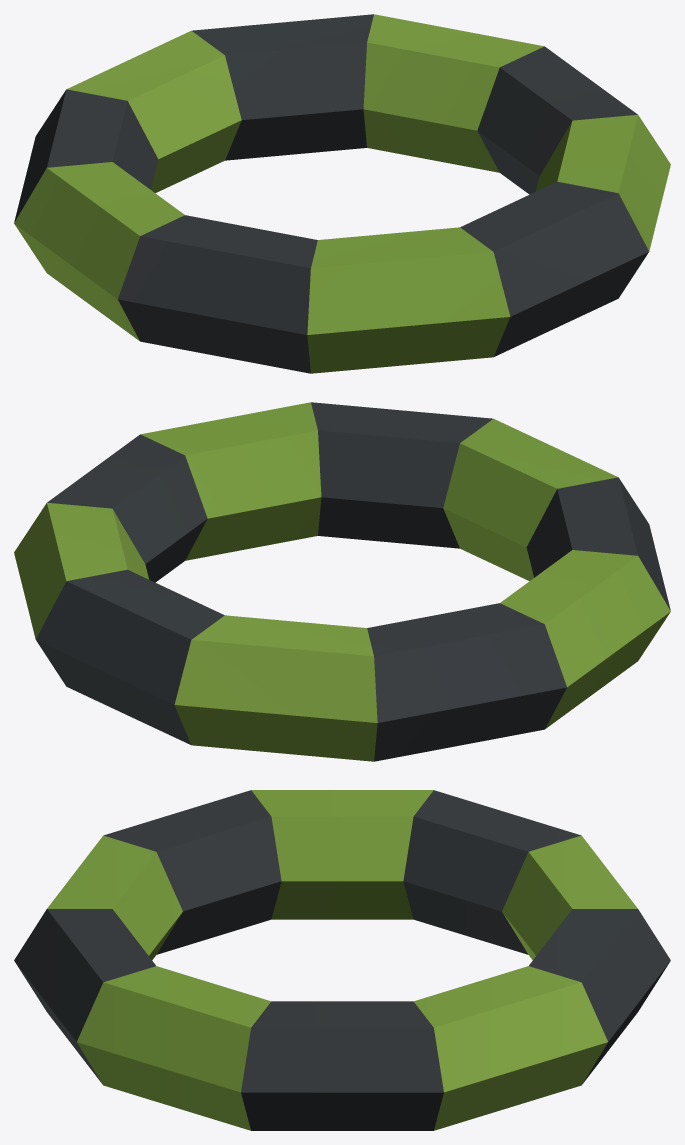
3 renders of one model, top to bottom at view 1: azimuth 30°, elevation 25°; view 2: azimuth 150°, elevation 25°; view 3: azimuth 270°, elevation 25°, orthographic. The views are drawn at different scales.
Parts seen in each view (by area): view 1: Сircle_02; view 2: Сircle_02; view 3: Сircle_02.
Part boxes in pixels (x1,y1,x2,y2): Сircle_02: [14, 14, 670, 373]; Сircle_02: [14, 402, 670, 761]; Сircle_02: [14, 790, 670, 1130].
Bounding box in the file's own units: 0.5216 × 0.095 × 0.5484.
